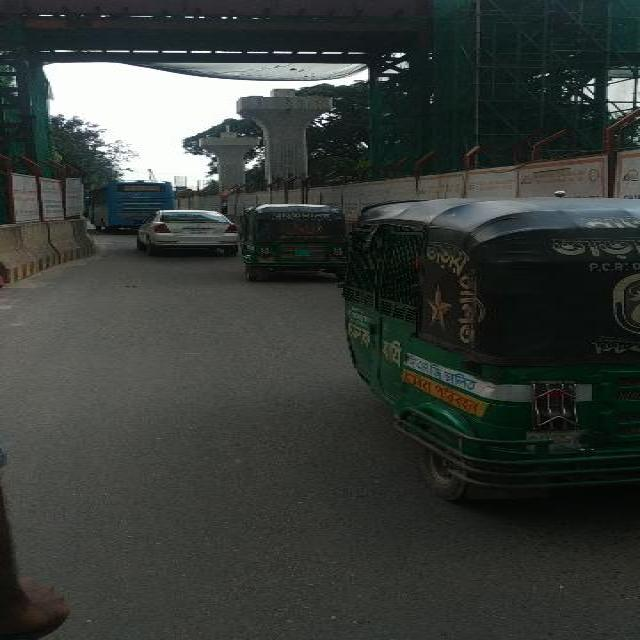17: (345, 191, 636, 511), (238, 202, 350, 282)
5: (136, 208, 237, 256)
Truck: (87, 178, 137, 230)
